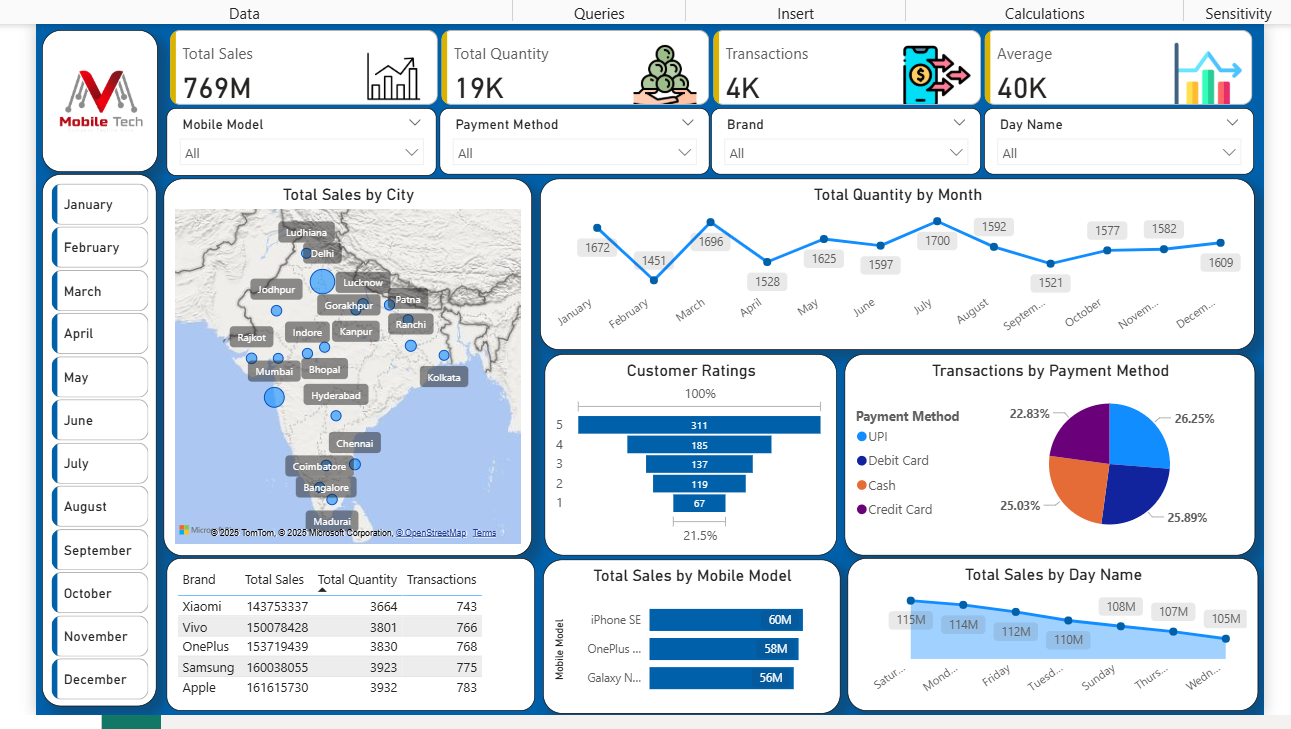

What the dashboard file says about the page in this screenshot:
{"tool":"powerbi","page":{"name":"Page 1","canvas":[1280,720],"ordinal":0},"visuals":[{"type":"shape","box":[5.5,6.9,120.8,148.2],"z":0},{"type":"shape","box":[6.9,156.4,119.4,554.4],"z":1000},{"type":"advancedSlicerVisual","fields":{"Values":["Sales_Data.Date.Variation.Date Hierarchy.Month"]},"box":[11,160.5,111.1,548.9],"z":2000},{"type":"cardVisual","fields":{"Data":["Sales_Data.Total Sales","Sales_Data.Total Quantity","Sales_Data.Transactions","Sales_Data.Average"]},"box":[134,5.6,1140.1,83.7],"z":3000},{"type":"map","fields":{"Category":["Sales_Data.City"],"Size":["Sales_Data.Total Sales"]},"box":[132.9,160.8,384.1,393.1],"z":4000},{"type":"lineChart","fields":{"Y":["Sales_Data.Total Quantity"],"Category":["Sales_Data.Date.Variation.Date Hierarchy.Month","Sales_Data.Date.Variation.Date Hierarchy.Day"]},"box":[525.9,160.8,744.8,178.7],"z":5000},{"type":"clusteredBarChart","fields":{"Category":["Sales_Data.Mobile Model"],"Y":["Sales_Data.Total Sales"]},"box":[528.3,558.5,310.1,160.5],"z":6000},{"type":"pieChart","fields":{"Category":["Sales_Data.Payment Method"],"Y":["Sales_Data.Transactions"]},"box":[842.5,344.4,428.1,209.9],"z":7000},{"type":"funnel","title":"Customer Ratings","fields":{"Category":["Sales_Data.Customer Ratings"],"Y":["CountNonNull(Sales_Data.Customer Ratings)"]},"box":[529.7,344.4,304.6,209.9],"z":8000},{"type":"areaChart","fields":{"Category":["Sales_Data.Day Name"],"Y":["Sales_Data.Total Sales"]},"box":[845.3,557.1,428.1,159.2],"z":9000},{"type":"tableEx","fields":{"Values":["Sales_Data.Brand","Sales_Data.Total Sales","Sales_Data.Total Quantity","Sales_Data.Transactions"]},"box":[135.8,557.1,384.2,159.2],"z":10000},{"type":"slicer","fields":{"Values":["Sales_Data.Mobile Model"]},"box":[136.2,87.1,281.4,70.3],"z":11000},{"type":"slicer","fields":{"Values":["Sales_Data.Payment Method"]},"box":[421,87.1,281.4,69.2],"z":12000},{"type":"slicer","fields":{"Values":["Sales_Data.Brand"]},"box":[703.5,87.1,281.4,69.2],"z":13000},{"type":"slicer","fields":{"Values":["Sales_Data.Day Name"]},"box":[988.2,87.1,281.4,69.2],"z":14000},{"type":"image","box":[0,0,136,161],"z":15000}]}

Visuals, with their boxes in screenshot pixels (x1, y1, x2, y2):
shape: <region>39, 27, 155, 169</region>
shape: <region>40, 170, 155, 702</region>
advancedSlicerVisual - Sales_Data.Date.Variation.Date Hierarchy.Month: <region>44, 174, 151, 701</region>
cardVisual - Sales_Data.Total Sales x Sales_Data.Total Quantity: <region>162, 26, 1256, 106</region>
map - Sales_Data.City x Sales_Data.Total Sales: <region>161, 174, 530, 552</region>
lineChart - Sales_Data.Total Quantity x Sales_Data.Date.Variation.Date Hierarchy.Month: <region>538, 174, 1253, 346</region>
clusteredBarChart - Sales_Data.Mobile Model x Sales_Data.Total Sales: <region>540, 556, 838, 710</region>
pieChart - Sales_Data.Payment Method x Sales_Data.Transactions: <region>842, 351, 1253, 552</region>
"Customer Ratings" funnel: <region>542, 351, 834, 552</region>
areaChart - Sales_Data.Day Name x Sales_Data.Total Sales: <region>845, 555, 1255, 707</region>
tableEx - Sales_Data.Brand x Sales_Data.Total Sales: <region>164, 555, 533, 707</region>
slicer - Sales_Data.Mobile Model: <region>164, 104, 434, 171</region>
slicer - Sales_Data.Payment Method: <region>438, 104, 707, 170</region>
slicer - Sales_Data.Brand: <region>709, 104, 979, 170</region>
slicer - Sales_Data.Day Name: <region>982, 104, 1252, 170</region>
image: <region>34, 20, 164, 175</region>
